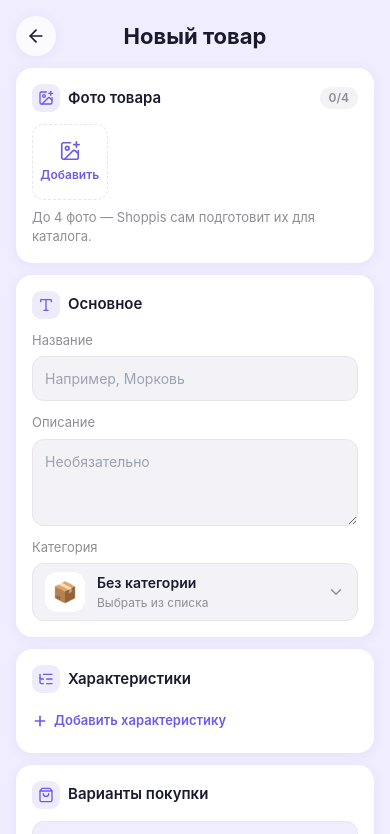
Test case: CreateProductView — удаление черновика (docs/23 §7.6, §8.5) › удаляет ненужную копию с подтверждением
Step 1. Type "Морковь" into the field with placeholder "Например, Морковь" → (195, 378), box [32,356,358,401]
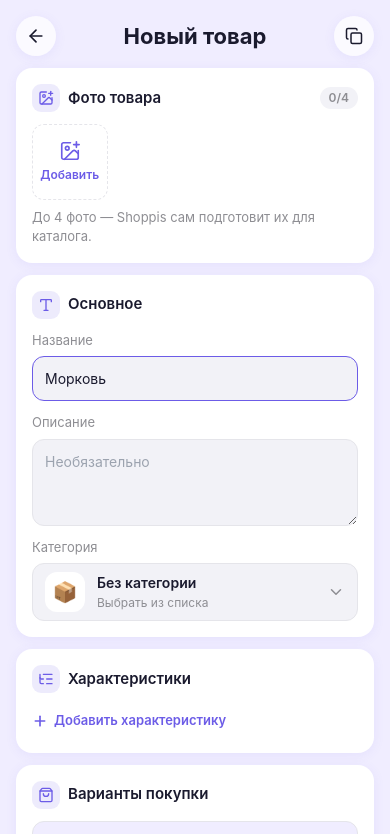
Step 2. Click the button named "Создать копию" → (354, 36), box [334,16,374,56]
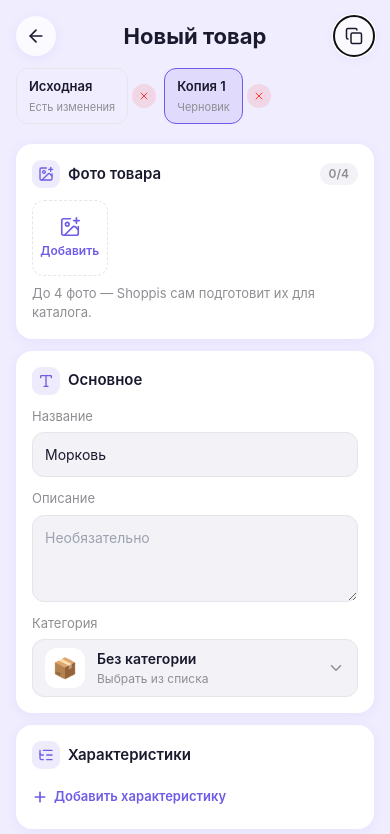
Now the number of tabs is 2, box [16,68,128,124]; [164,68,243,124]
Step 3. Click the button named "Удалить черновик 2" → (259, 96), box [247,84,271,108]
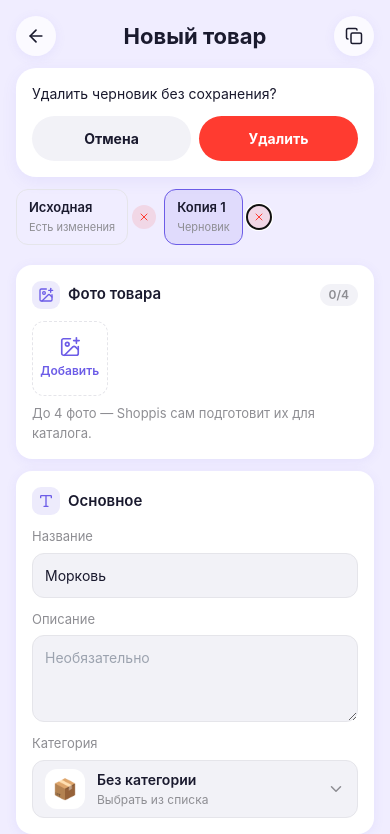
Now the element named "Подтверждение действия" is shown, box [16,68,374,177]
отмена не удаляет
Step 4. Click the button "Отмена" → (112, 138), box [32,116,191,161]
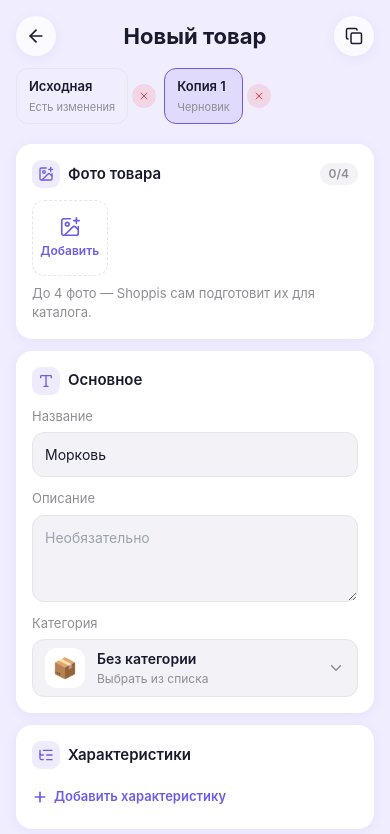
Now the number of tabs is 2, box [16,68,128,124]; [164,68,243,124]
Step 5. Click the button named "Удалить черновик 2" → (259, 96), box [247,84,271,108]
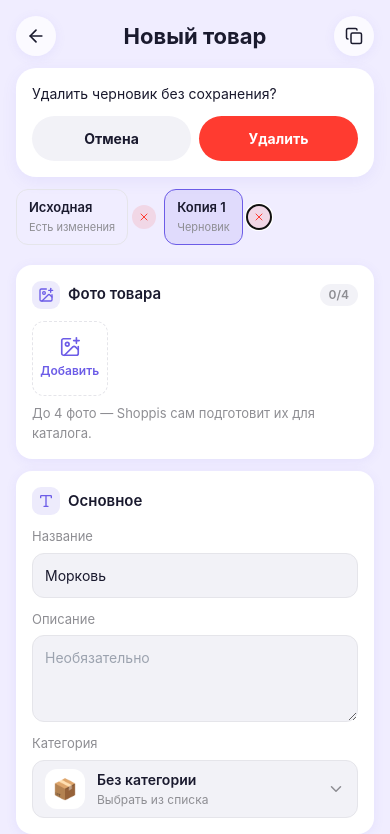
Step 6. Click the button "Удалить" → (278, 138), box [199,116,358,161]
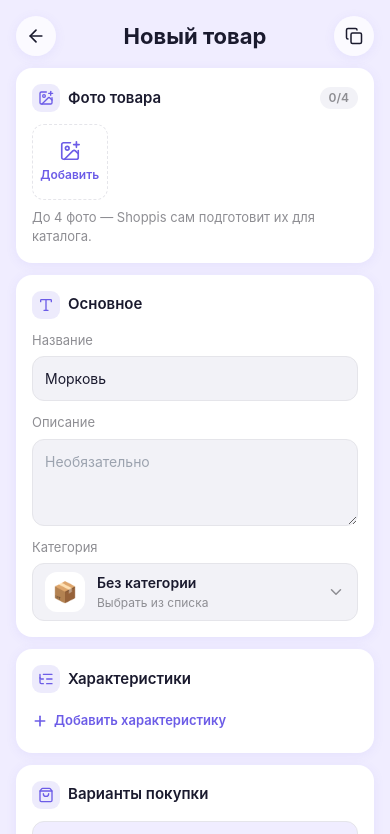
Now the tab "Копия 1" is gone
Now no tabs are shown
